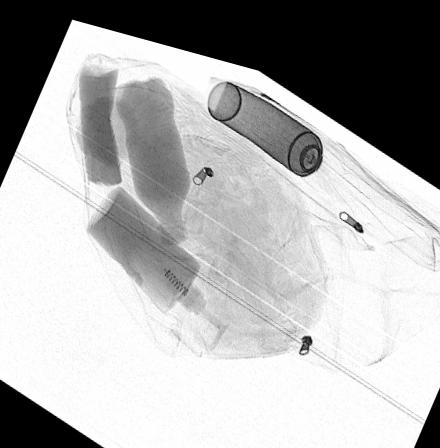Sprayer: (204, 67, 345, 175)
